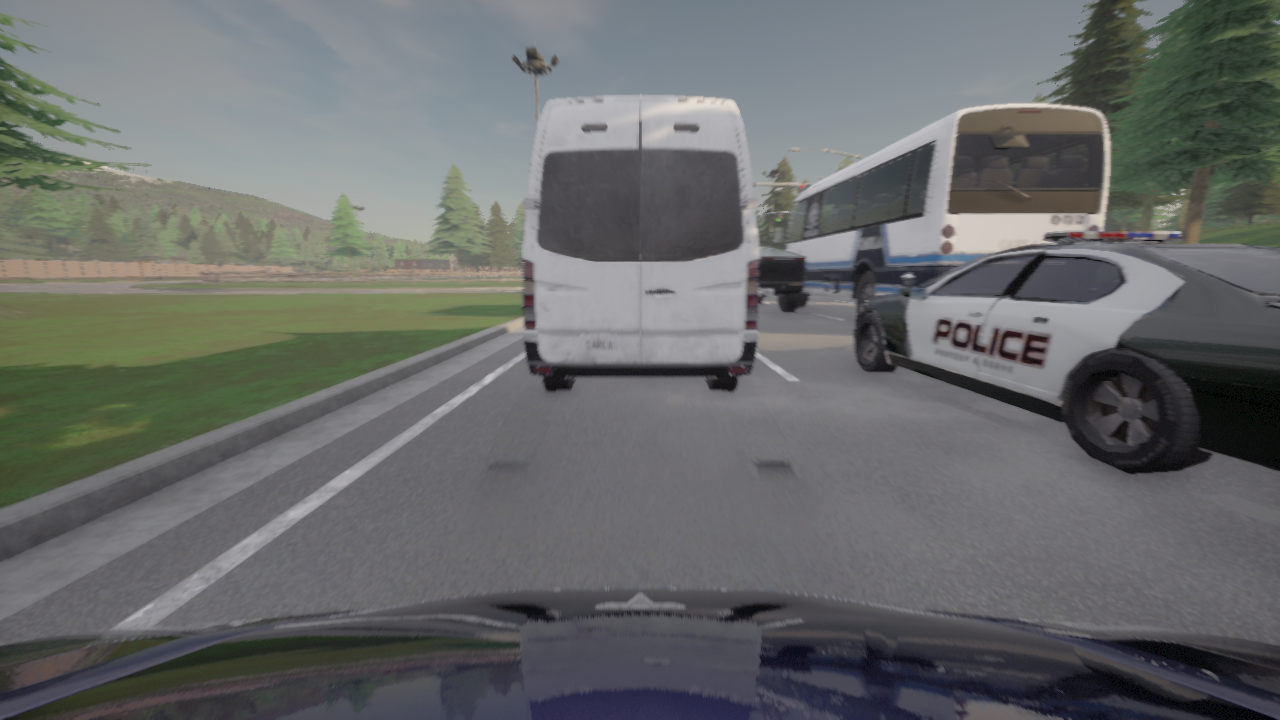cyclist: (0, 588, 1279, 719), (853, 232, 1279, 474), (773, 103, 1109, 312), (522, 96, 758, 391), (758, 247, 805, 312), (1275, 248, 1279, 249)
